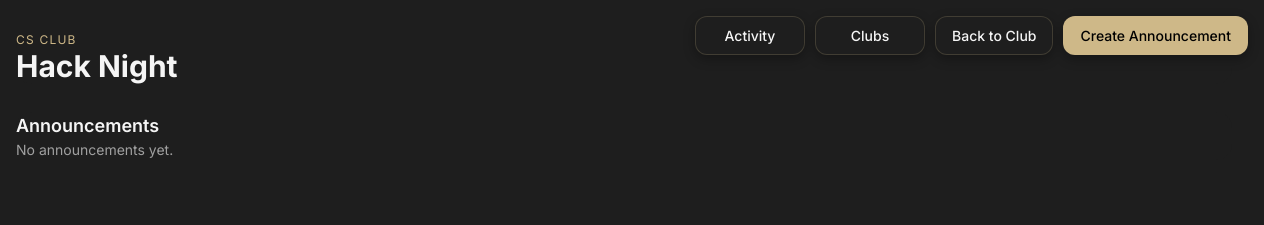
EventPage announcements › shows no-permission message when non-organizer attempts to post
The image size is (1264, 225).
Click the button "Create Announcement" at [1156, 36], box [1064,16,1248,55]
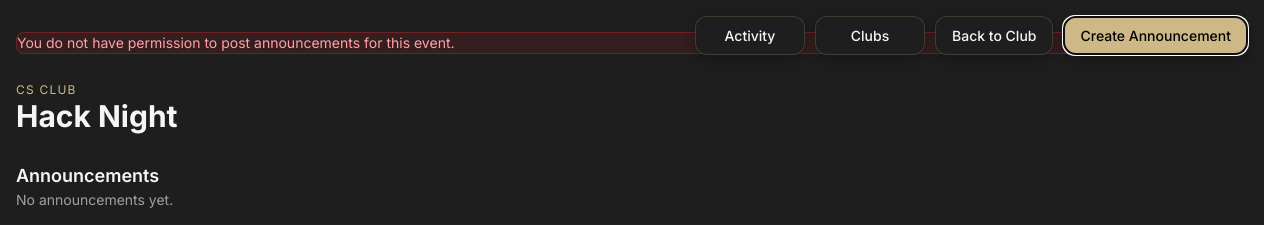
Check: the text "You do not have permission to post announcements for this event." is shown, box [16,32,1232,54]
